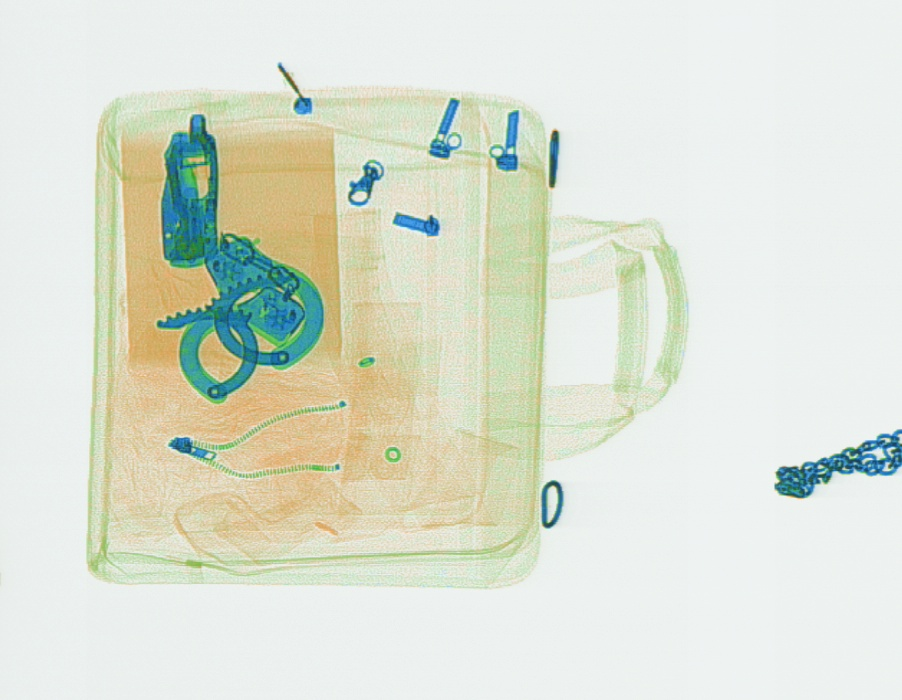handcuffs: (152, 230, 328, 405)
knife: (152, 110, 225, 271)
